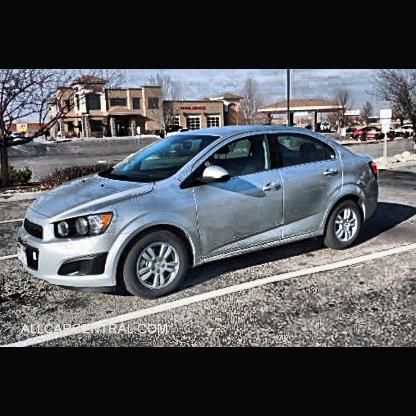Chevrolet Sonic Sedan 2012: (18, 124, 381, 298)
